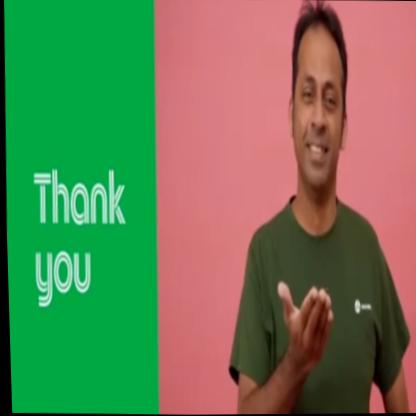ThankYou: (222, 0, 416, 415)
